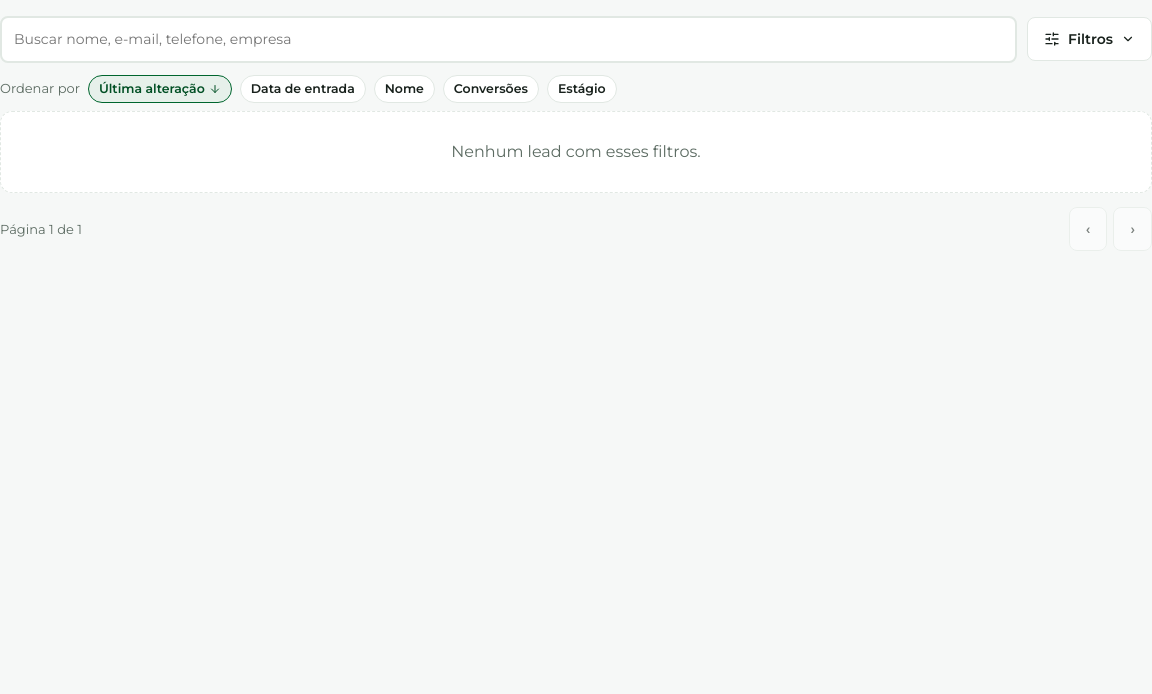
Test case: LeadsPage segment filters › exposes active segments and persists selected IDs and any/all in the URL
Click the button "Filtros" at (1090, 39), box [1027,17,1151,61]
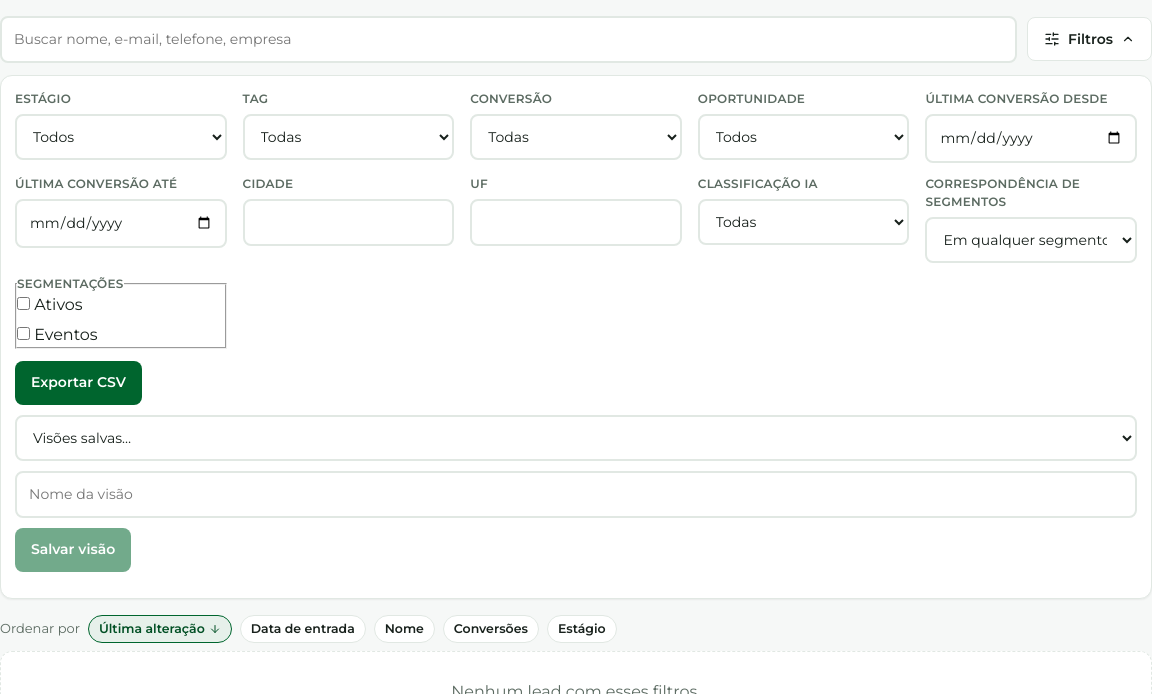
Check: the checkbox labelled "Ativos" is shown
Check: the checkbox labelled "Eventos" is shown, box [17,326,30,340]
Click the checkbox labelled "Ativos" at (24, 303), box [17,296,30,310]
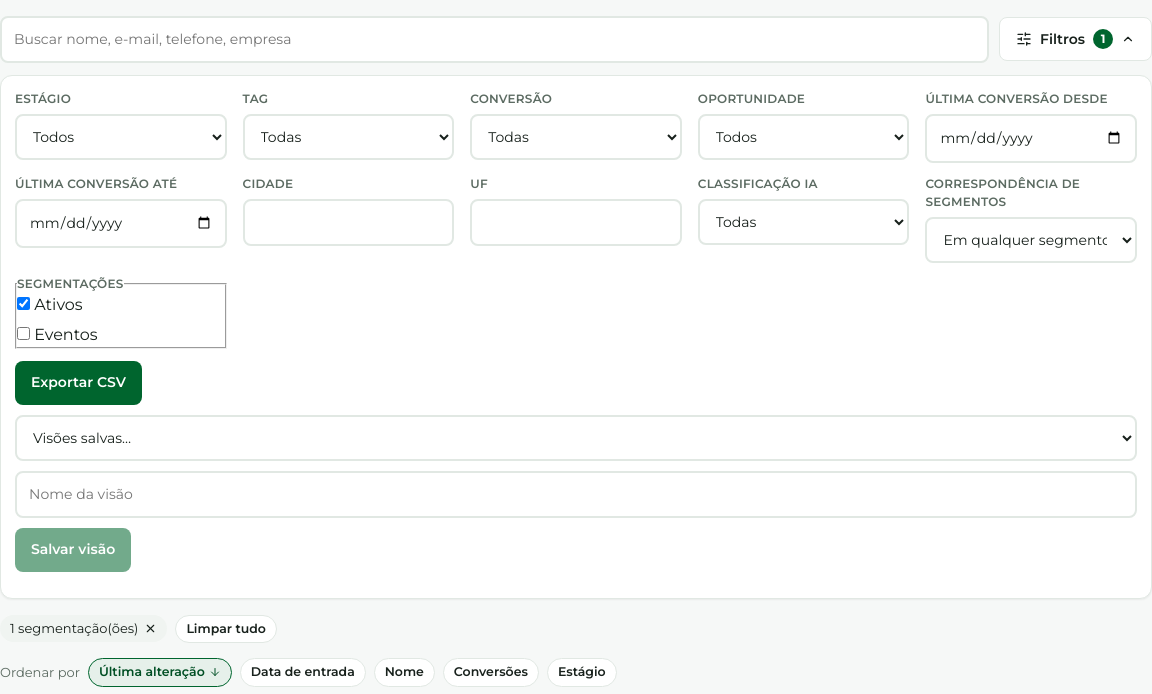
Click the checkbox labelled "Eventos" at (24, 333), box [17,326,30,340]
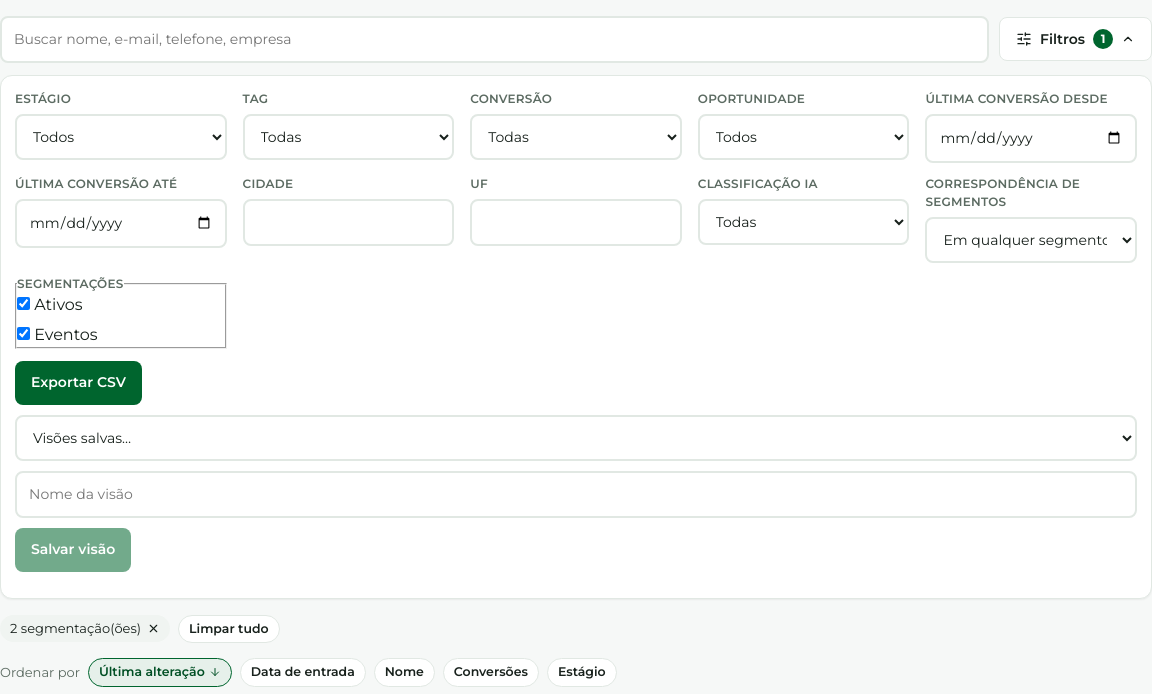
Select "Em todos os segmentos" in the dropdown labelled "Correspondência de segmentos" at (1031, 240), box [925,216,1137,262]
(page scrolled)
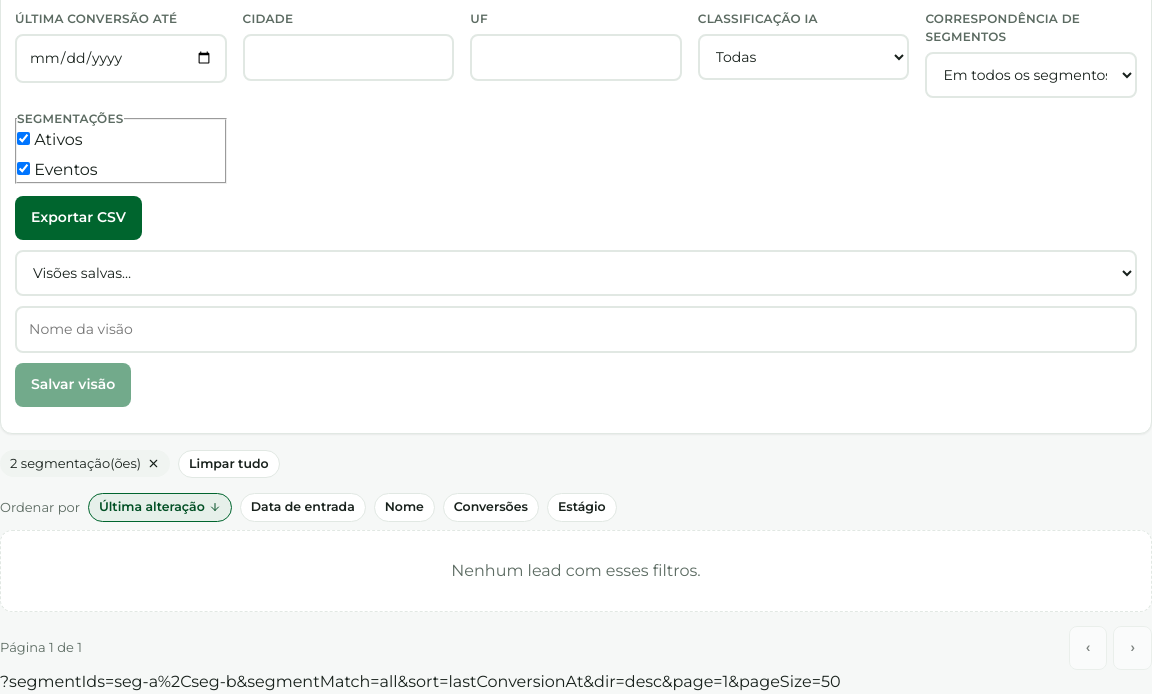
Check: the text named "URL atual" shows "segmentIds=seg-a%2Cseg-b", box [0,672,840,691]
Check: the text named "URL atual" shows "segmentMatch=all", box [0,672,840,691]
